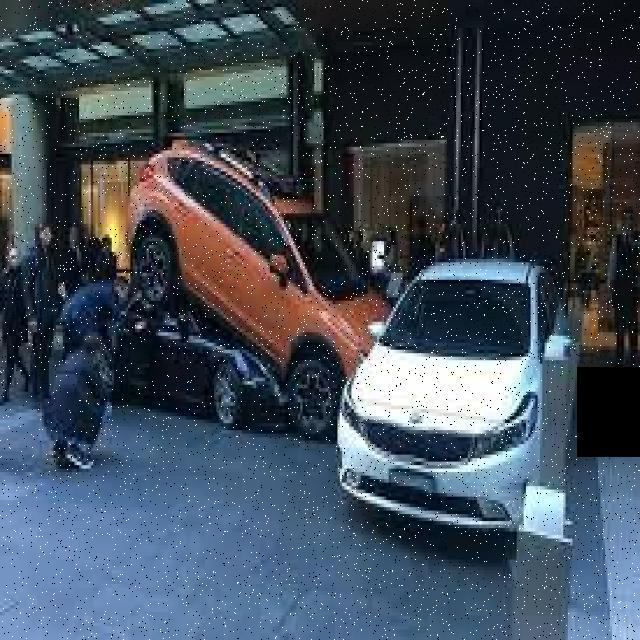severe: (87, 128, 397, 440)
